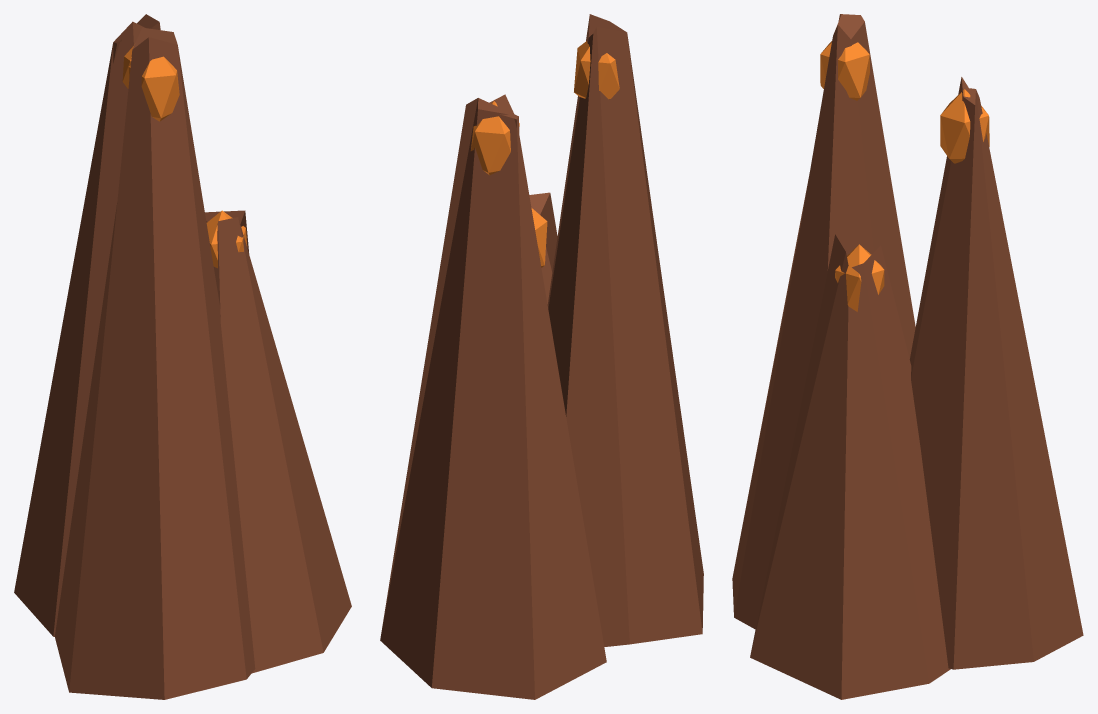
The model's file is Crater_Stalagmite.fbx.
The picture shows the model from 3 angles, left to right: view 1: azimuth 30°, elevation 25°; view 2: azimuth 150°, elevation 25°; view 3: azimuth 270°, elevation 25°; orthographic projection. The views are drawn at different scales.
Parts seen in each view (by area): view 1: Crater_Stalagmite; view 2: Crater_Stalagmite; view 3: Crater_Stalagmite.
Part boxes in pixels (left/top/right/bottom): Crater_Stalagmite: left=14, top=14, right=351, bottom=699; Crater_Stalagmite: left=380, top=14, right=703, bottom=699; Crater_Stalagmite: left=732, top=14, right=1083, bottom=699.
Bounding box in the file's own units: 1.11 × 2.29 × 1.21.
